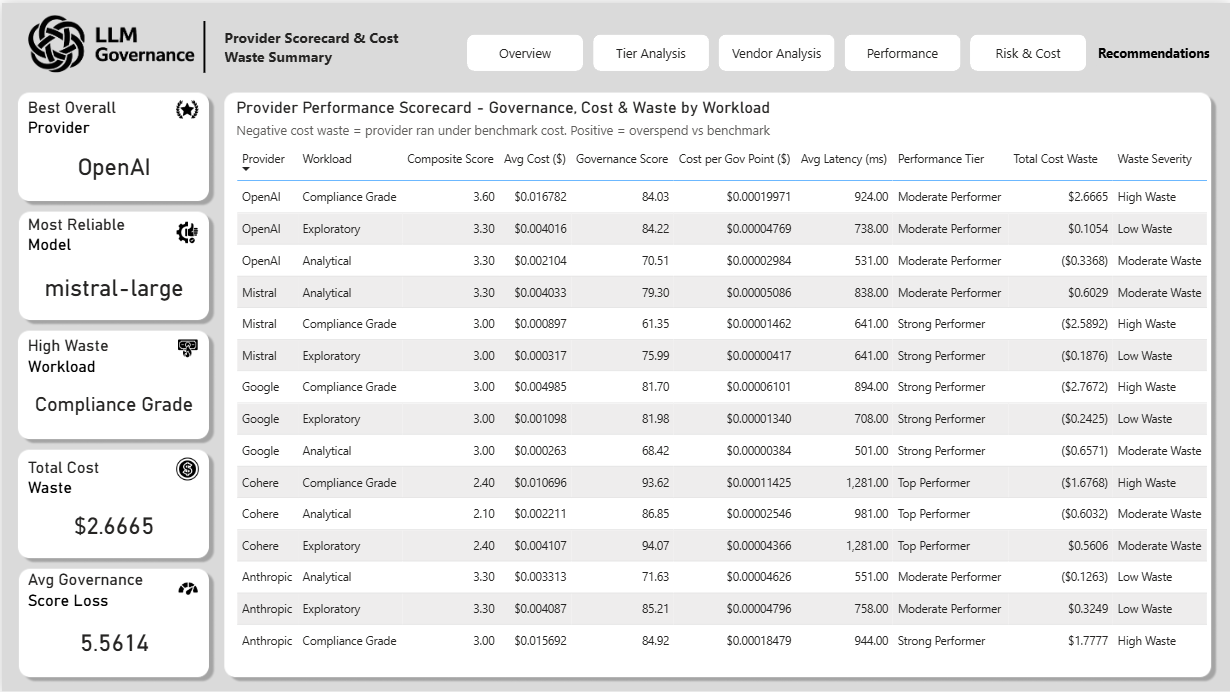

This screenshot's page, from the dashboard's own definition file:
{"tool":"powerbi","page":{"name":"Recommendations","canvas":[1280,720],"ordinal":5},"visuals":[{"type":"card","title":"Best Overall","fields":{"Values":["Measures_Table.Best Overall Provider"]},"box":[21.9,98.4,189.1,104.7],"z":0},{"type":"card","title":"Most Reliable","fields":{"Values":["Measures_Table.Most Reliable Model"]},"box":[21.9,220.3,189.1,114.1],"z":1000},{"type":"card","title":"High Waste","fields":{"Values":["Measures_Table.Highest Waste Workload"]},"box":[21.9,346.9,189.1,104.7],"z":2000},{"type":"tableEx","title":"Provider Performance Scorecard - Governance, Cost & Waste by Workload","fields":{"Values":["vw_provider_recommendations.provider","vw_provider_recommendations.Workload Label","Avg(vw_provider_recommendations.composite_rank_score)","vw_provider_recommendations.avg_cost","Avg(vw_provider_recommendations.avg_governance_score)","Avg(vw_provider_recommendations.cost_per_governance_point)","Avg(vw_provider_recommendations.avg_latency)","vw_provider_recommendations.performance_tier","vw_provider_recommendations.total_cost_waste","vw_provider_recommendations.waste_severity"]},"box":[239.1,98.4,1026.6,604.7],"z":3000},{"type":"card","title":"Total Cost","fields":{"Values":["Max(vw_cost_waste_analysis.total_cost_waste)"]},"box":[21.9,473.4,189.1,103.1],"z":4000},{"type":"card","title":"Avg Governance","fields":{"Values":["Avg(vw_cost_waste_analysis.avg_governance_score_loss)"]},"box":[21.9,590.6,189.1,112.5],"z":5000},{"type":"pageNavigator","box":[484.2,32.3,780.7,38.2],"z":6000},{"type":"image","box":[22,0,183.4,83.6],"z":7000},{"type":"shape","box":[195,18.9,31.1,53.9],"z":8000},{"type":"textbox","box":[226.6,20.3,215.6,51.6],"z":9000},{"type":"image","box":[181.6,600.5,25.8,20],"z":10000},{"type":"image","box":[181.6,473.7,24.2,24.2],"z":11000},{"type":"image","box":[181.1,348.4,24.2,23.2],"z":12000},{"type":"image","box":[181.8,226.4,23.6,24.5],"z":13000},{"type":"image","box":[181.8,98.2,23.6,24.5],"z":14000}]}

Visuals, with their boxes in screenshot pixels (x1, y1, x2, y2), scaled from the page's 1280x720 canvas onto the 1230x692 screenshot:
"Best Overall" card: l=21, t=95, r=203, b=195
"Most Reliable" card: l=21, t=212, r=203, b=321
"High Waste" card: l=21, t=333, r=203, b=434
"Provider Performance Scorecard - Governance, Cost & Waste by Workload" tableEx: l=230, t=95, r=1216, b=676
"Total Cost" card: l=21, t=455, r=203, b=554
"Avg Governance" card: l=21, t=568, r=203, b=676
pageNavigator: l=465, t=31, r=1215, b=68
image: l=21, t=0, r=197, b=80
shape: l=187, t=18, r=217, b=70
textbox: l=218, t=20, r=425, b=69
image: l=175, t=577, r=199, b=596
image: l=175, t=455, r=198, b=479
image: l=174, t=335, r=197, b=357
image: l=175, t=218, r=197, b=241
image: l=175, t=94, r=197, b=118
